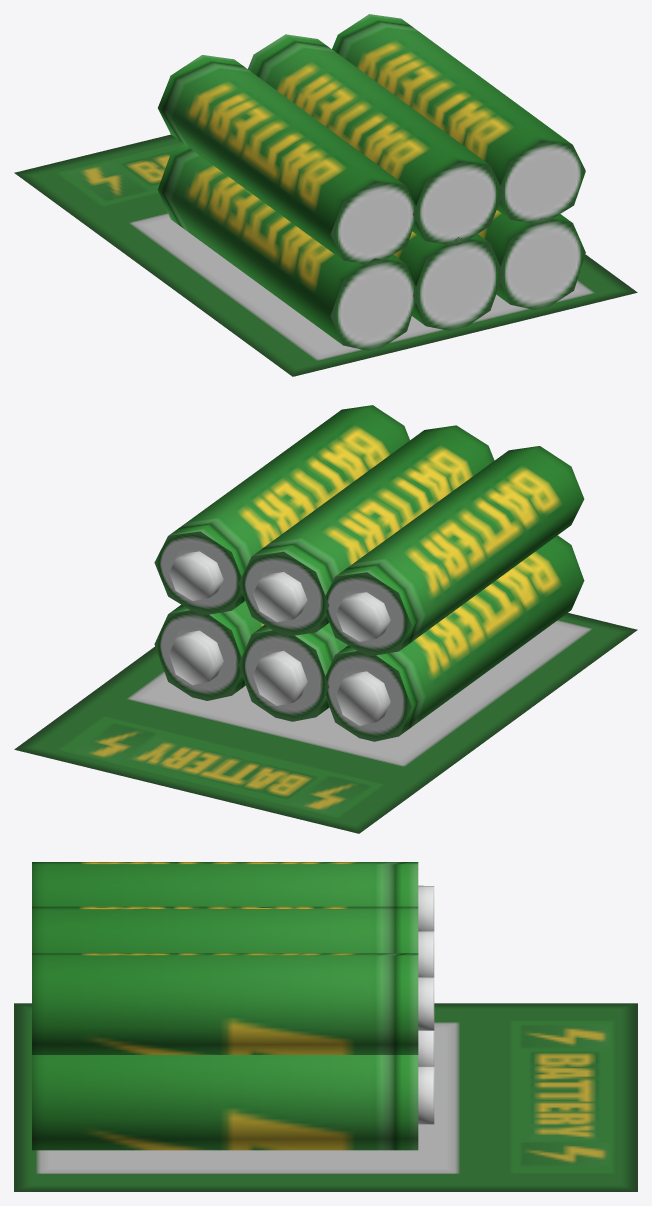
The model's file is pack_of_batteries.fbx.
The picture shows the model from 3 angles, top to bottom: view 1: azimuth 30°, elevation 25°; view 2: azimuth 150°, elevation 25°; view 3: azimuth 270°, elevation 25°; orthographic projection. The views are drawn at different scales.
Visible parts, largest first — view 1: BatteryPack; view 2: BatteryPack; view 3: BatteryPack.
Part boxes in pixels (x1,y1,x2,y2): BatteryPack: [14, 14, 637, 376]; BatteryPack: [14, 405, 637, 833]; BatteryPack: [14, 862, 637, 1191].
Size of the model in its own units: 0.1274 by 0.0606 by 0.1782.
